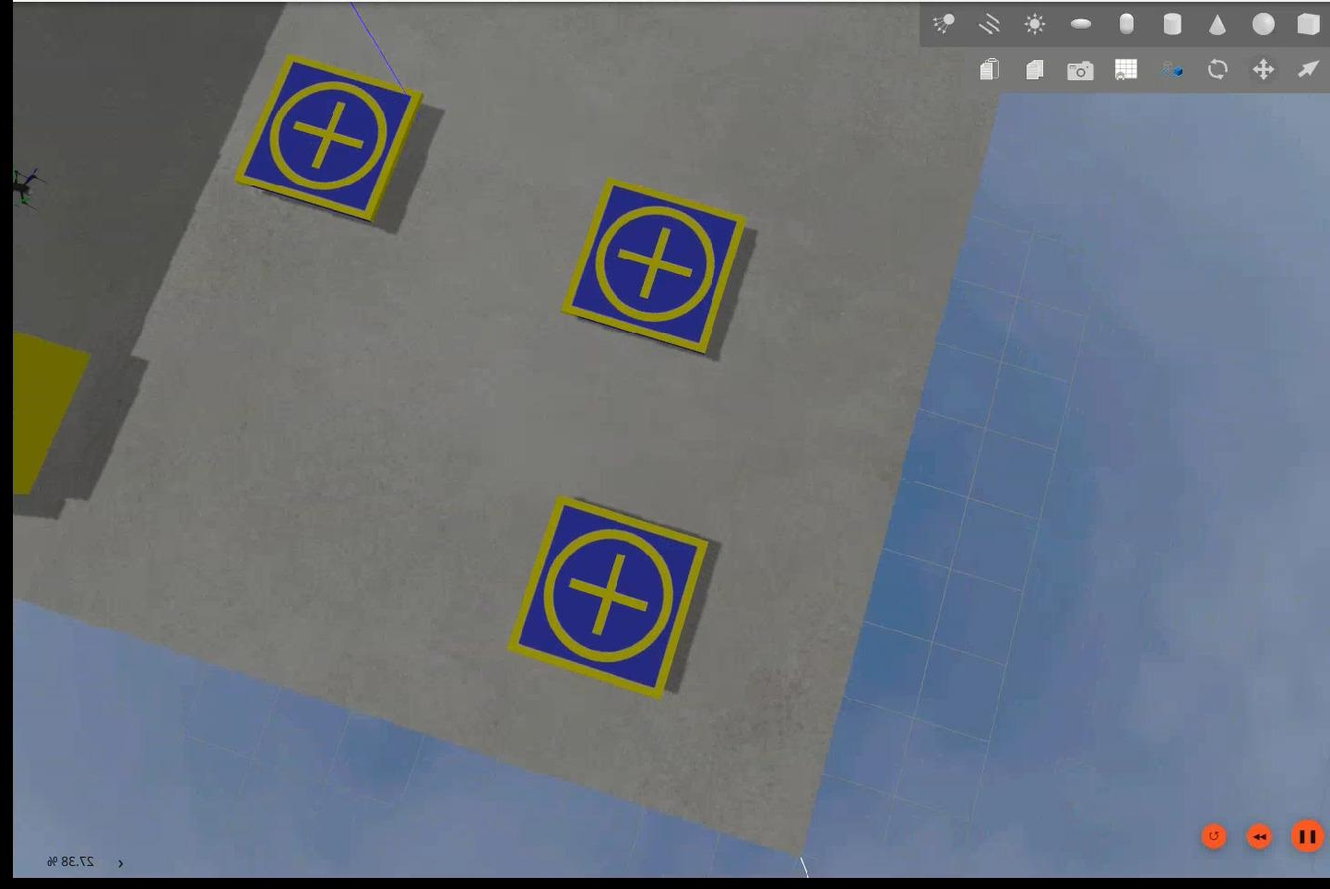small_base: (505, 492, 710, 699), (560, 176, 744, 356), (229, 56, 421, 225)
